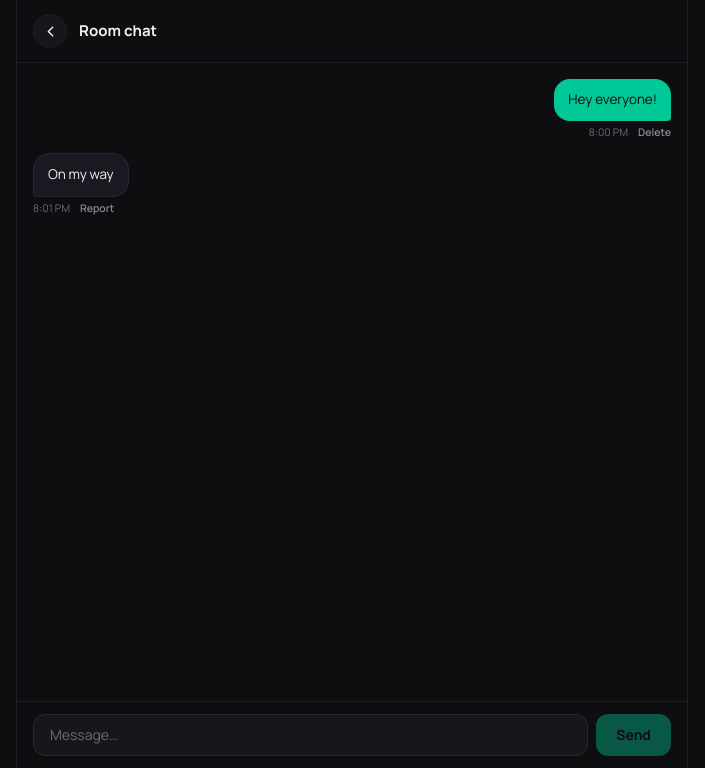
Test case: RoomChat › opens a reason form on Report, and submits it to reportContent
The width and height of the screenshot is (705, 768).
Click the button "Report": (97, 208) [80,201,114,216]
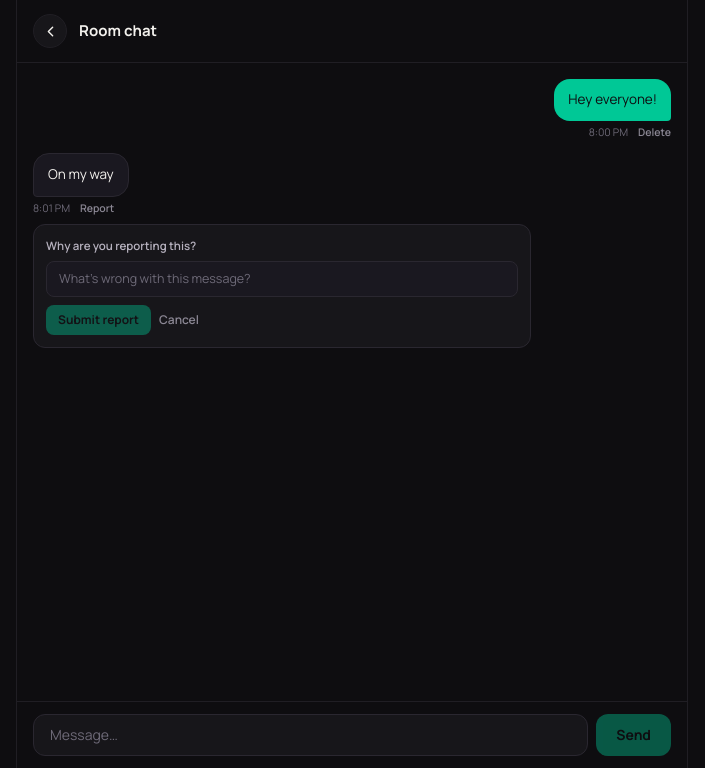
In the field labelled "Why are you reporting this?": (282, 279) [46,261,518,297], type "being rude"
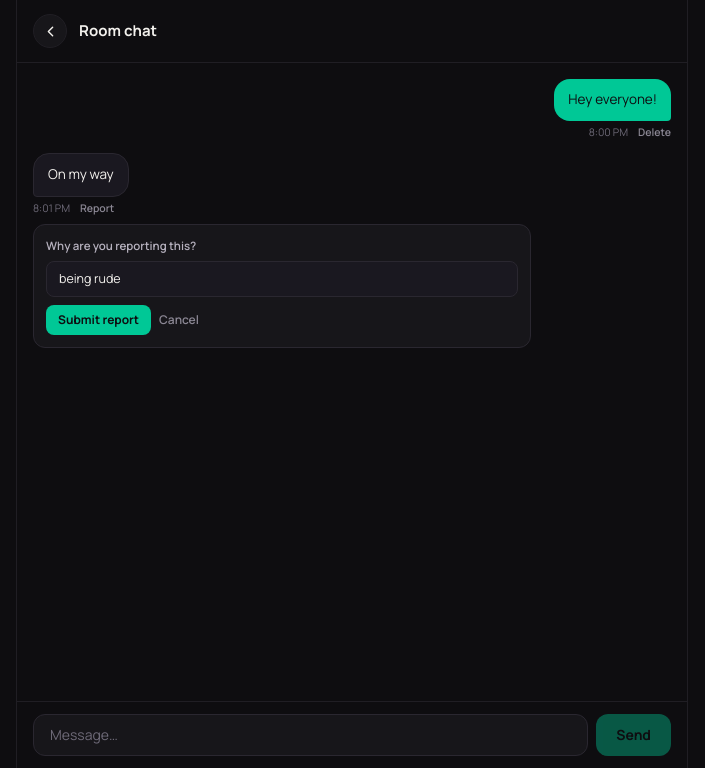
Click the button "Submit report": (98, 320) [46,305,151,335]
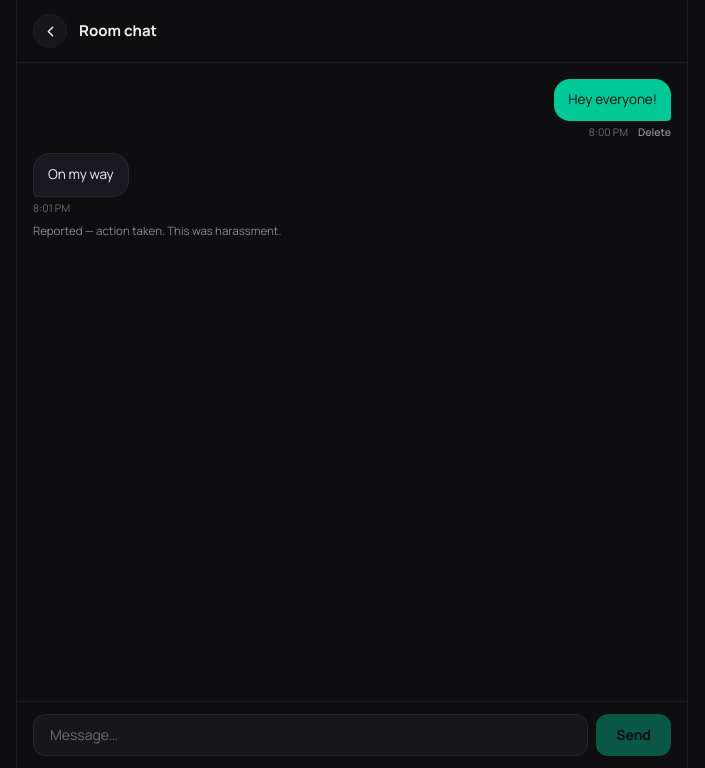
Now the text "Reported — action taken. This was harassment." is shown, box [33,222,281,240]
Now the label labelled "Why are you reporting" is gone
